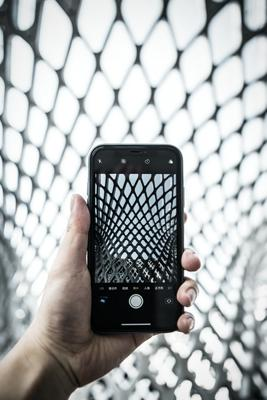cell-phone: (85, 141, 195, 337)
